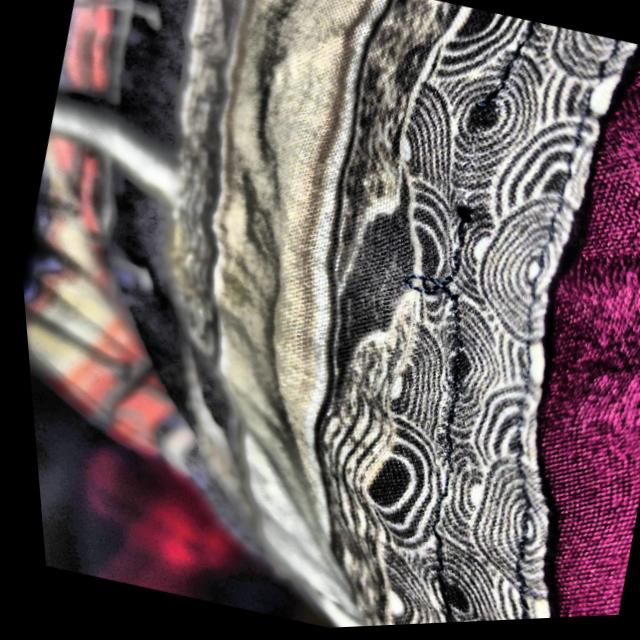Stitch: (330, 214, 503, 378), (393, 60, 540, 248)
